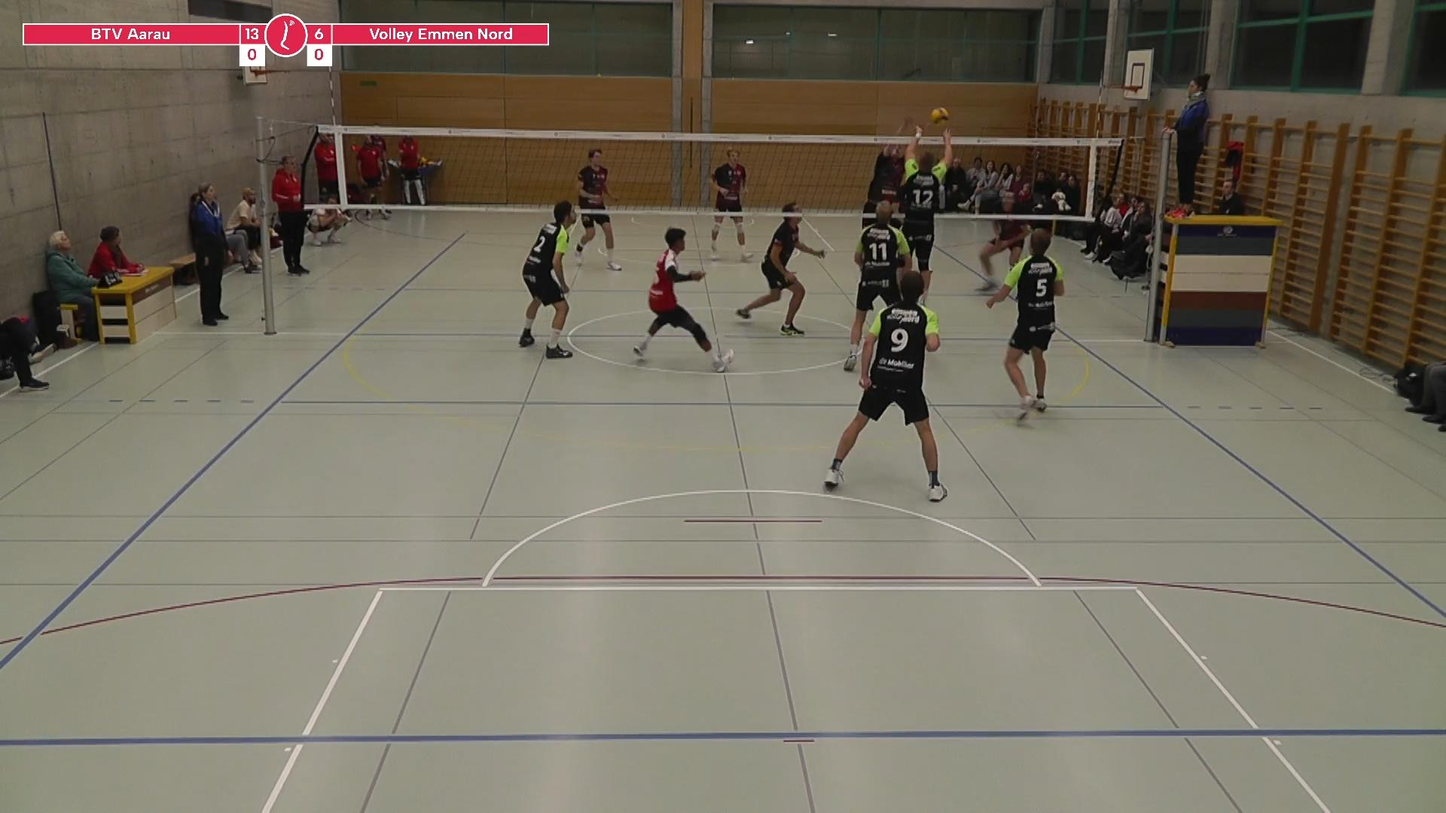muro: (902, 122, 954, 299)
